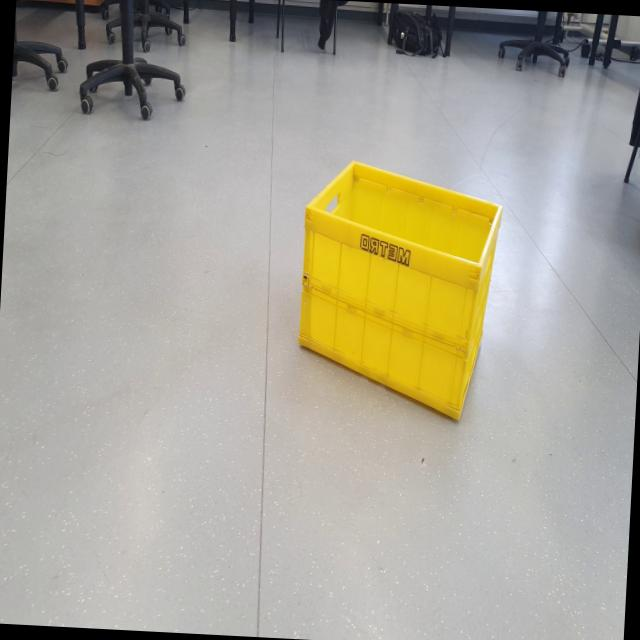box: (288, 152, 510, 429)
